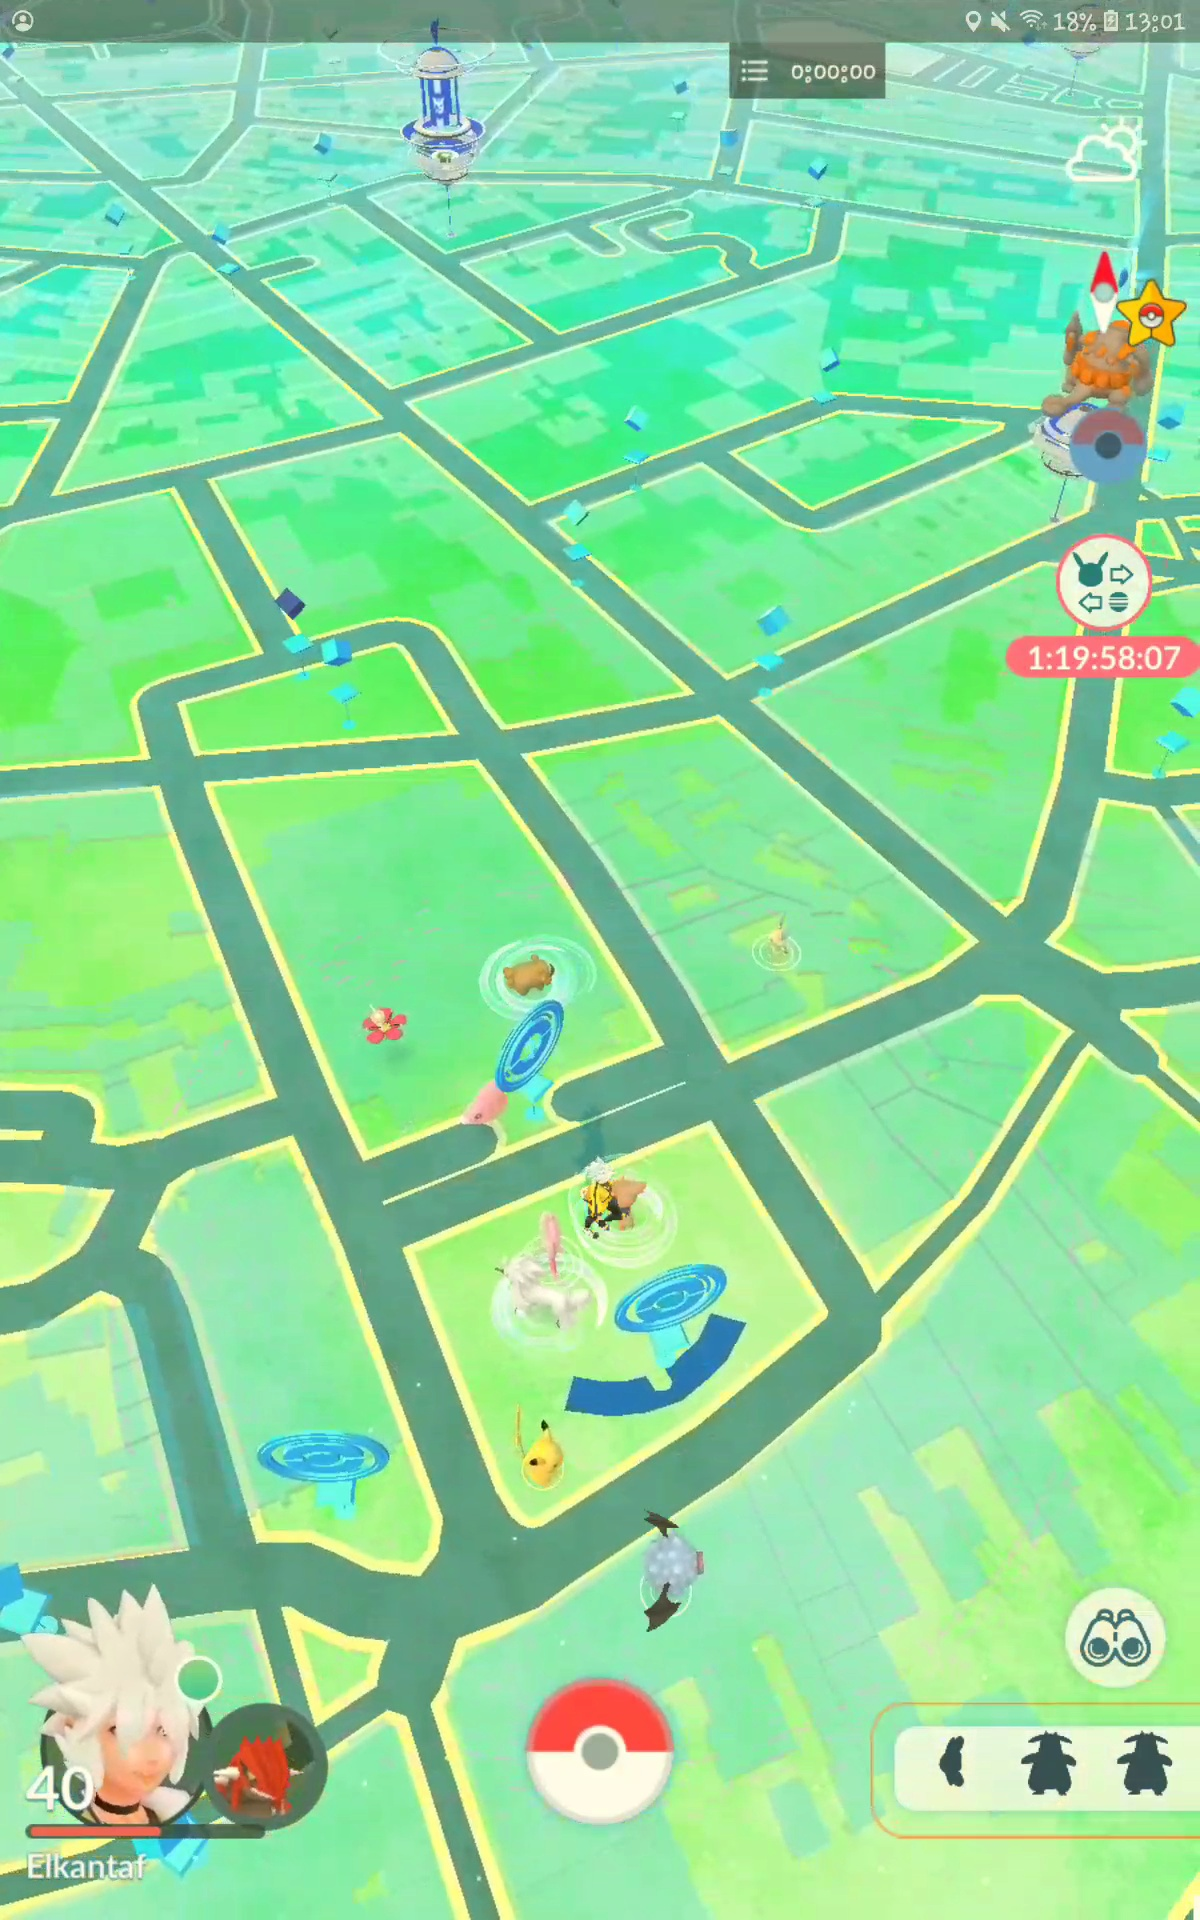Pokemon: (630, 1493, 715, 1648), (507, 1396, 567, 1504), (488, 943, 568, 1008), (355, 988, 420, 1057), (747, 907, 810, 977), (455, 1066, 510, 1142)
